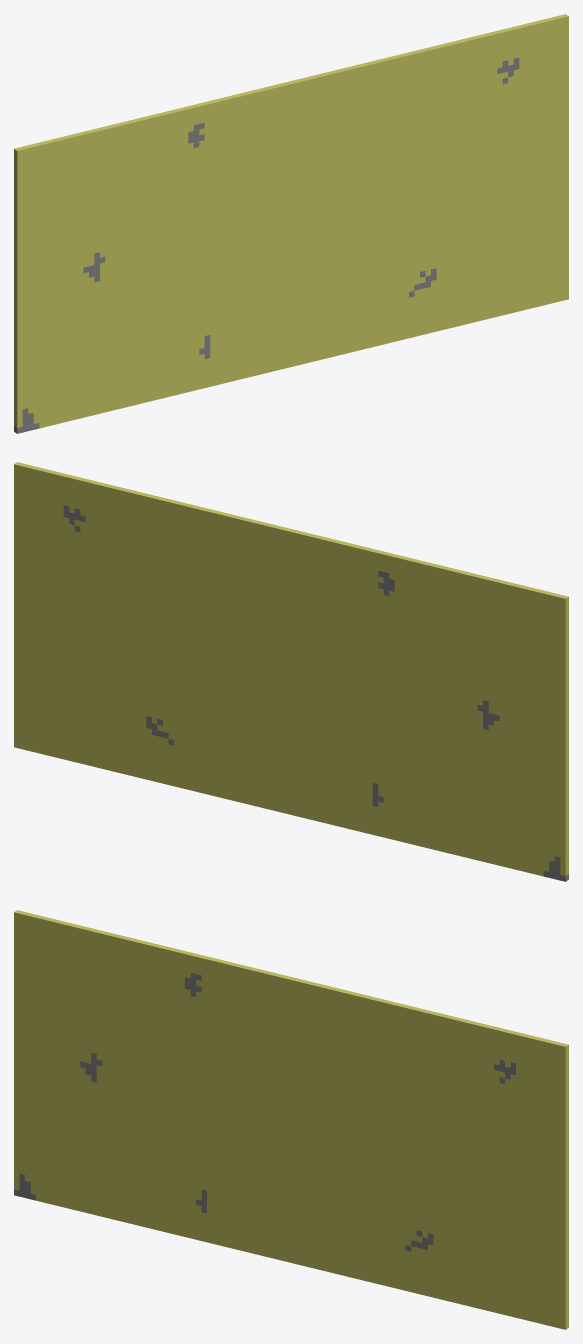
The model's file is --5-West wall.obj.
3 renders of one model, top to bottom at view 1: azimuth 30°, elevation 25°; view 2: azimuth 150°, elevation 25°; view 3: azimuth 330°, elevation 25°, orthographic.
Parts seen in each view (by area): view 1: West wall; view 2: West wall; view 3: West wall.
Boxes of the visible parts, x1,y1,x2,y2 form: West wall: (14,14,568,433); West wall: (14,462,568,881); West wall: (14,910,568,1329).
Bounding box in the file's own units: 10 × 4.9 × 0.1.
